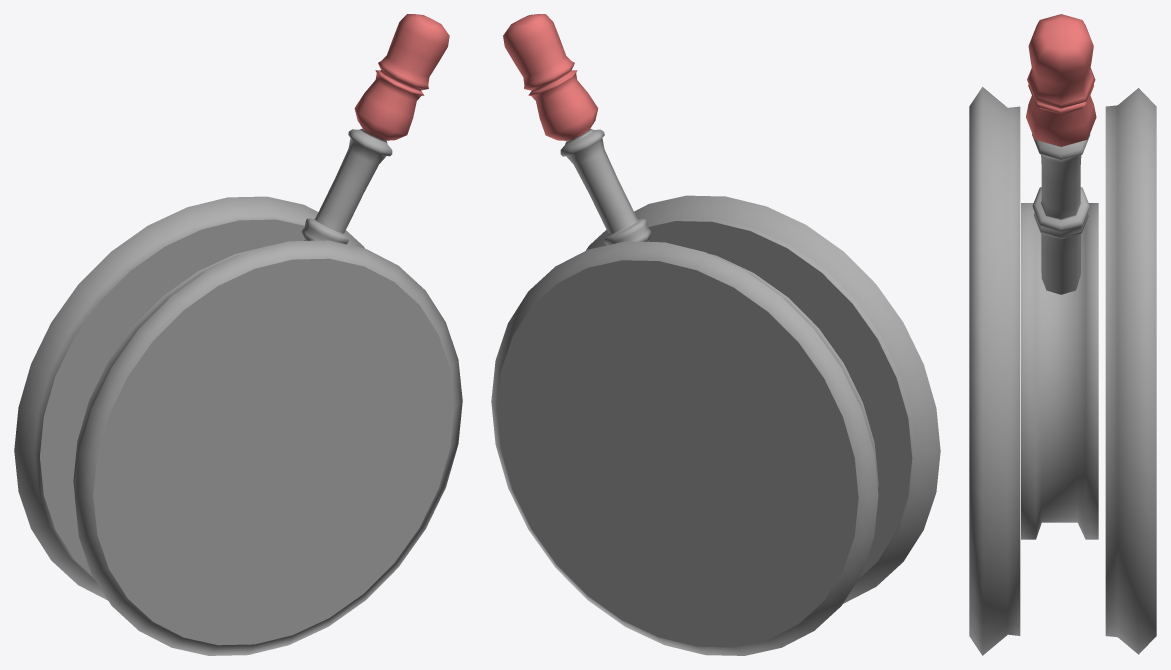
File: Lever.fbx
3 renders of one model, left to right at view 1: azimuth 30°, elevation 25°; view 2: azimuth 150°, elevation 25°; view 3: azimuth 270°, elevation 25°, orthographic. The views are drawn at different scales.
Parts seen in each view (by area): view 1: polySurface1, pCube1; view 2: polySurface1, pCube1; view 3: polySurface1, pCube1.
Part boxes in pixels (left/top/right/bottom): polySurface1: left=14, top=196, right=462, bottom=655; pCube1: left=301, top=14, right=449, bottom=244; polySurface1: left=491, top=195, right=940, bottom=655; pCube1: left=503, top=14, right=651, bottom=245; polySurface1: left=969, top=87, right=1156, bottom=655; pCube1: left=1026, top=14, right=1096, bottom=294.
Size of the model in its own units: 4.69 by 6.33 by 1.49.
